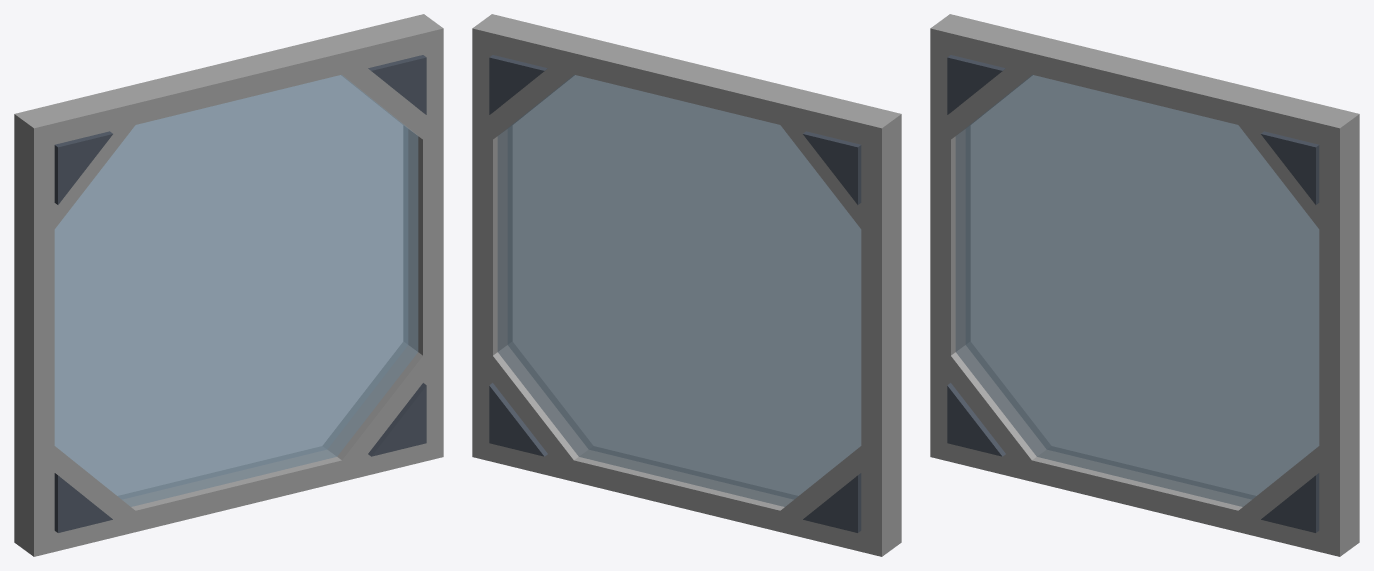
The model's file is Window.fbx.
The picture shows the model from 3 angles, left to right: view 1: azimuth 30°, elevation 25°; view 2: azimuth 150°, elevation 25°; view 3: azimuth 330°, elevation 25°; orthographic projection.
Parts seen in each view (by area): view 1: pCube2, pCube1; view 2: pCube2, pCube1; view 3: pCube2, pCube1.
Boxes of the visible parts, bbox=[...] form: pCube2: bbox=[54, 75, 418, 506]; pCube1: bbox=[14, 14, 443, 556]; pCube2: bbox=[497, 75, 861, 506]; pCube1: bbox=[472, 14, 901, 556]; pCube2: bbox=[955, 75, 1319, 506]; pCube1: bbox=[930, 14, 1359, 556].
Size of the model in its own units: 600 by 600 by 68.16.
